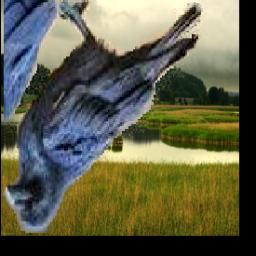Crow: (4, 0, 207, 234)
